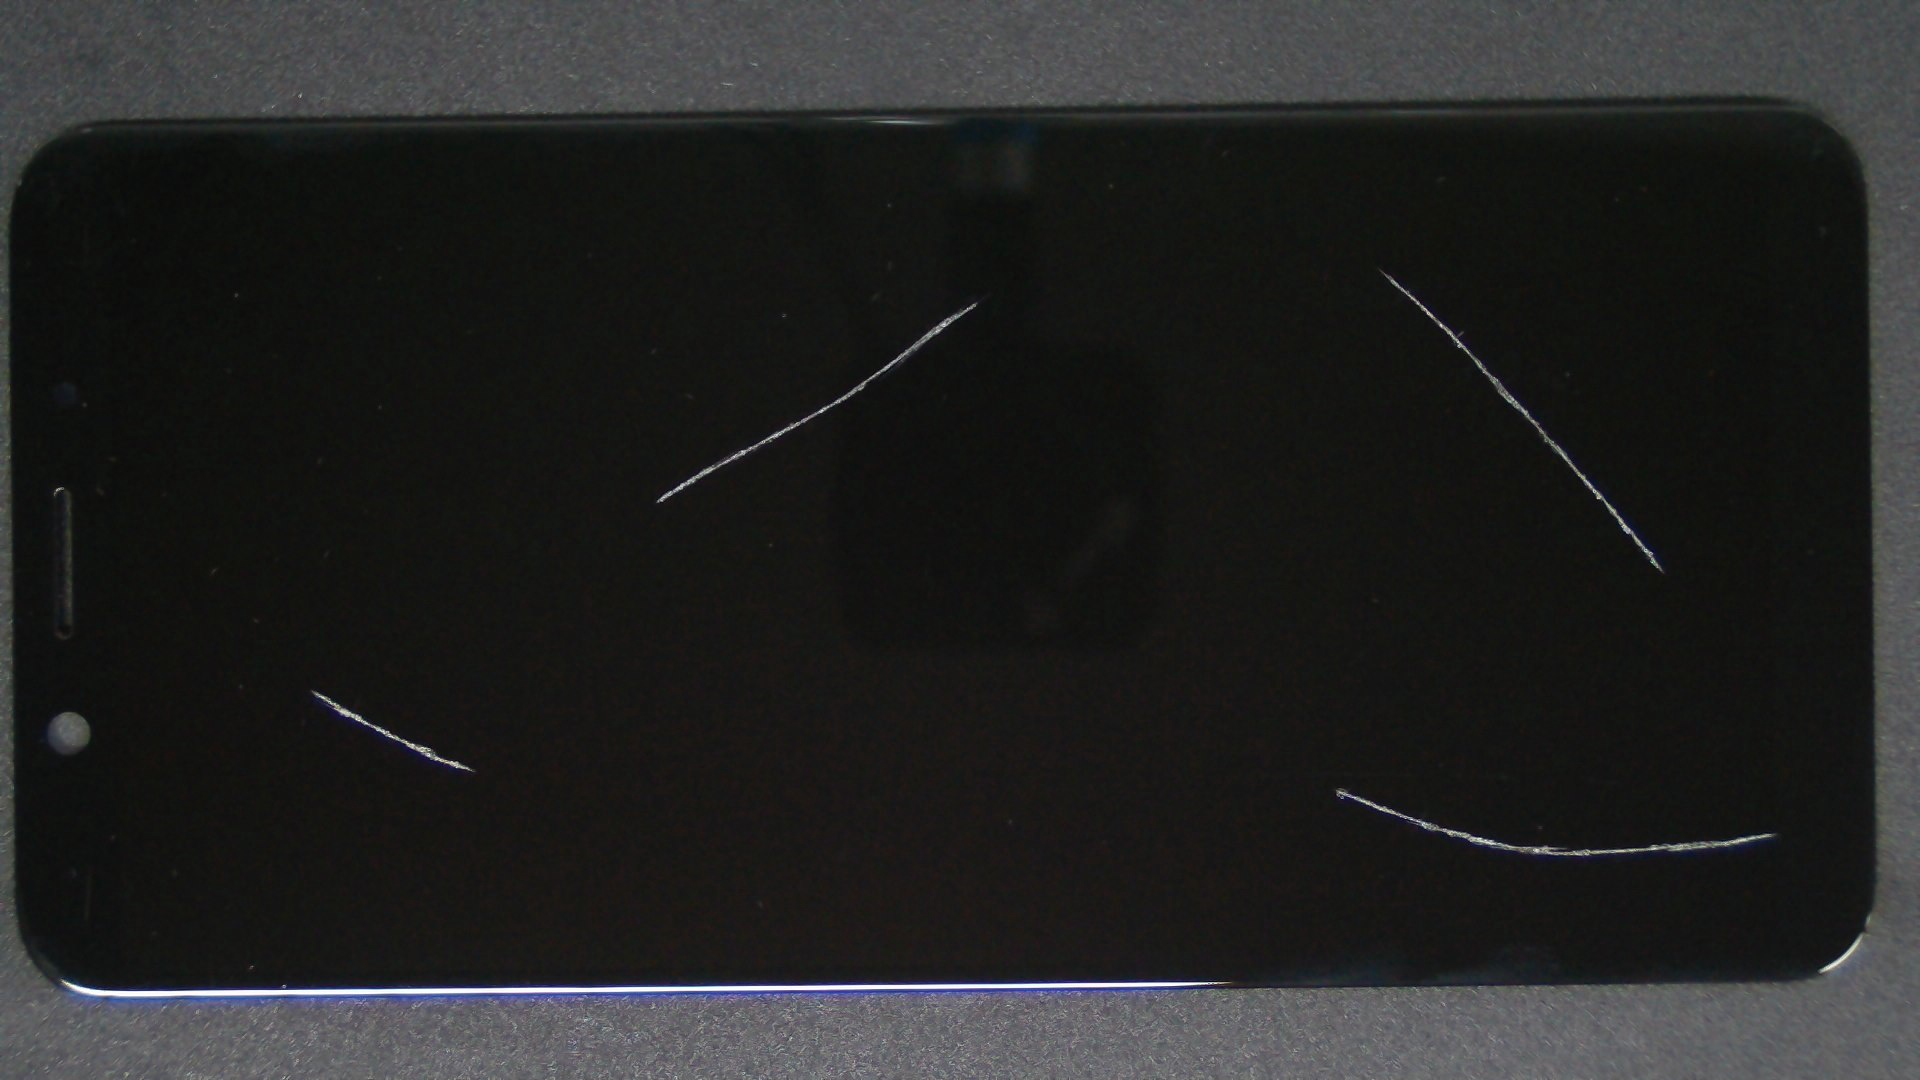oil: (670, 393, 1920, 1080), (688, 133, 1920, 401), (488, 150, 1462, 454), (156, 344, 467, 1036)
